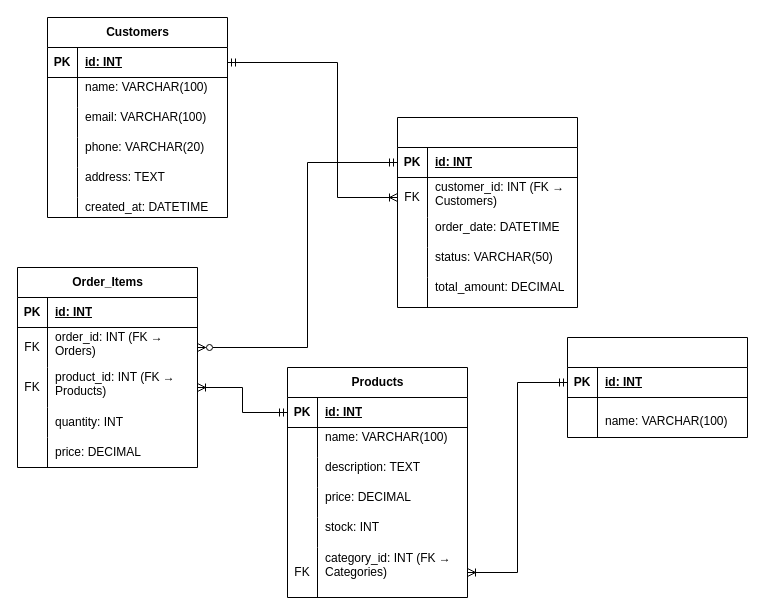
The diagram is 765 pixels wide and 615 high, and some of its shapes have lost their labels. The shapes that lost their labels are listed below. From the top down, each one's box as (x1, y1, x2, y2) in pixels, then its label:
(396, 116, 578, 308): Orders
(566, 336, 748, 438): Categories
